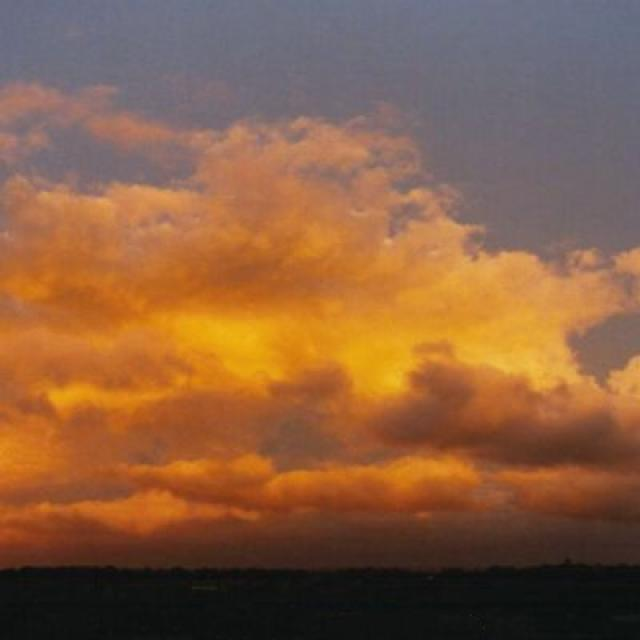Sc: (1, 78, 640, 508)
